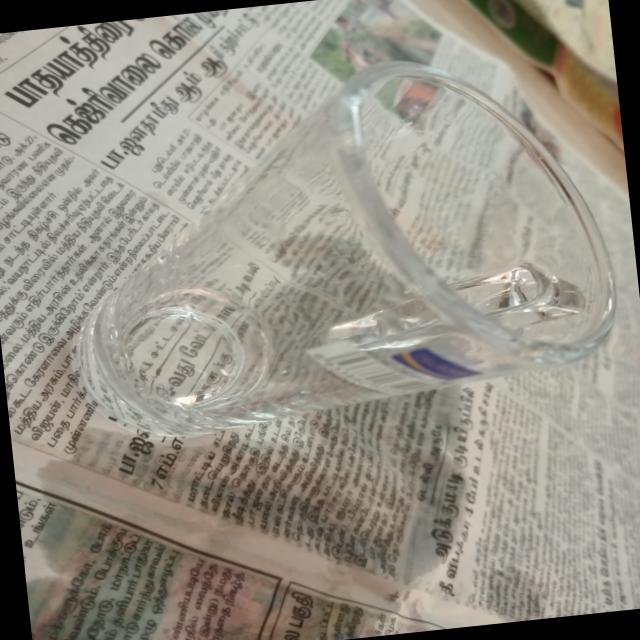glass-VX4N: (50, 41, 625, 444)
